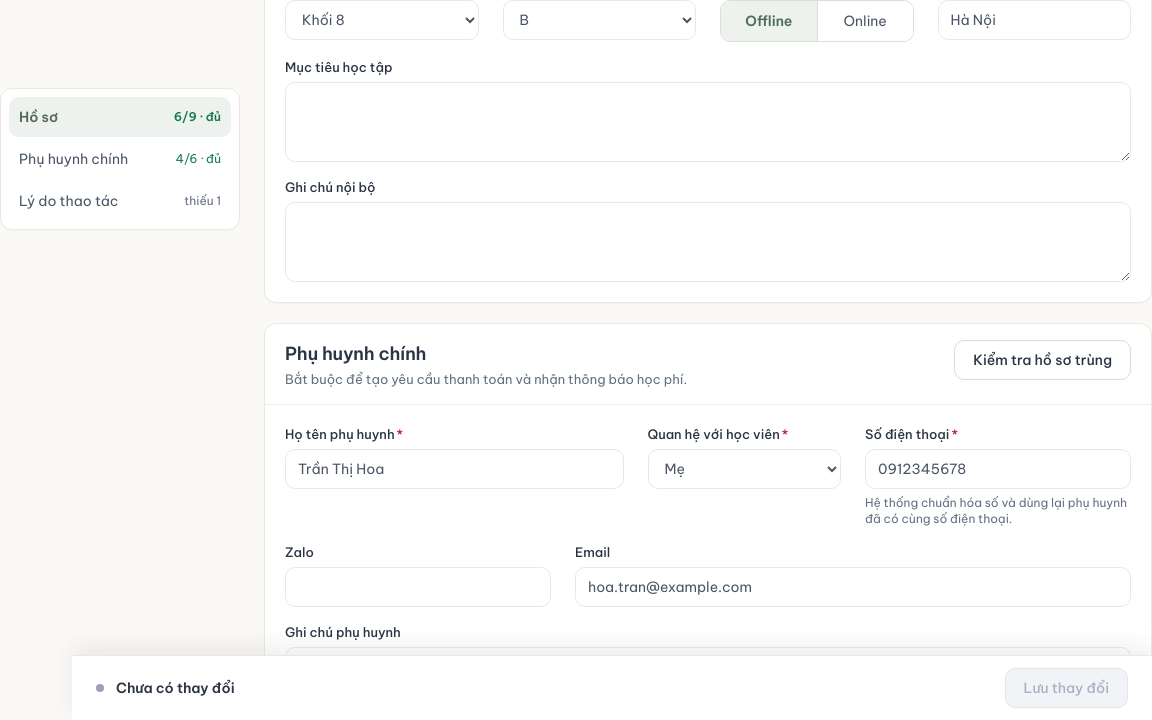
Scenario: StudentProfileForm (design 17a) › on edit, says the student's own guardian is updated and never lists the student itself
The width and height of the screenshot is (1152, 720).
(page scrolled)
Click the button "Kiểm tra hồ sơ trùng" at (1043,360), box [954,340,1131,380]
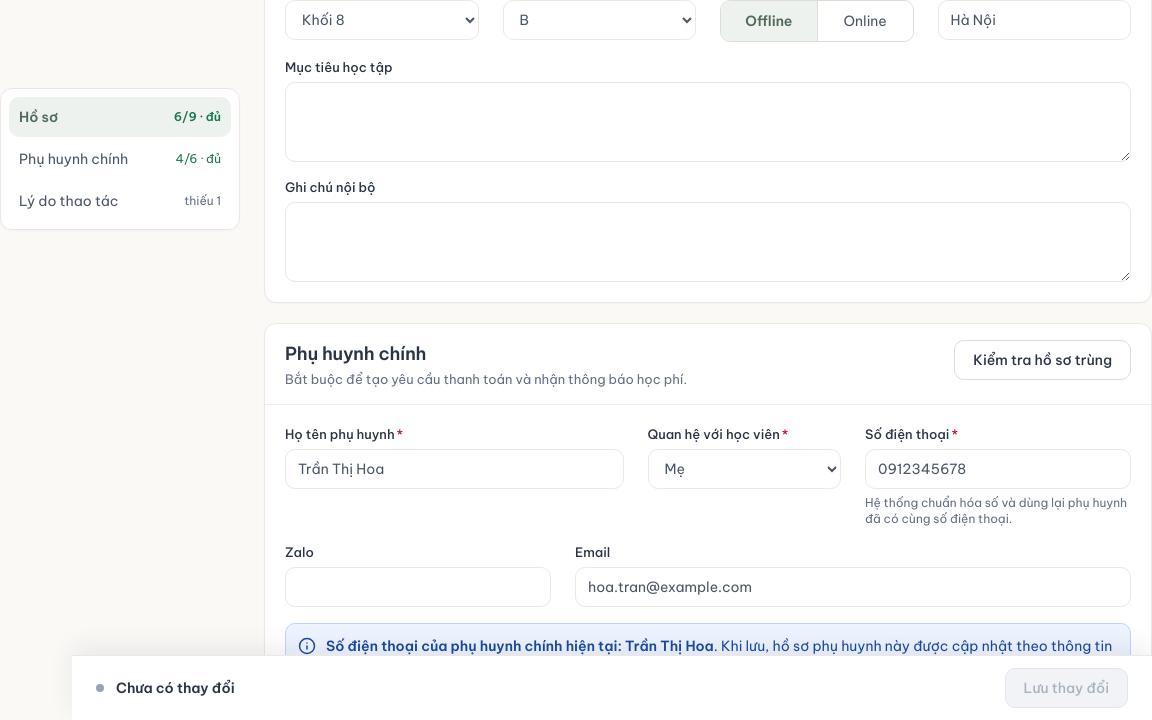
Expected: the text "Số điện thoại của phụ huynh chính hiện tại: Trần Thị Hoa" does not show "Phạm Minh Khang", [285,623,1131,689]
Expected: the text "Số điện thoại của phụ huynh chính hiện tại: Trần Thị Hoa" is shown, [326,637,714,655]
Replace the text in the field labelled "Số điện thoại" with "0905123456" at (998,469), box [865,449,1131,489]
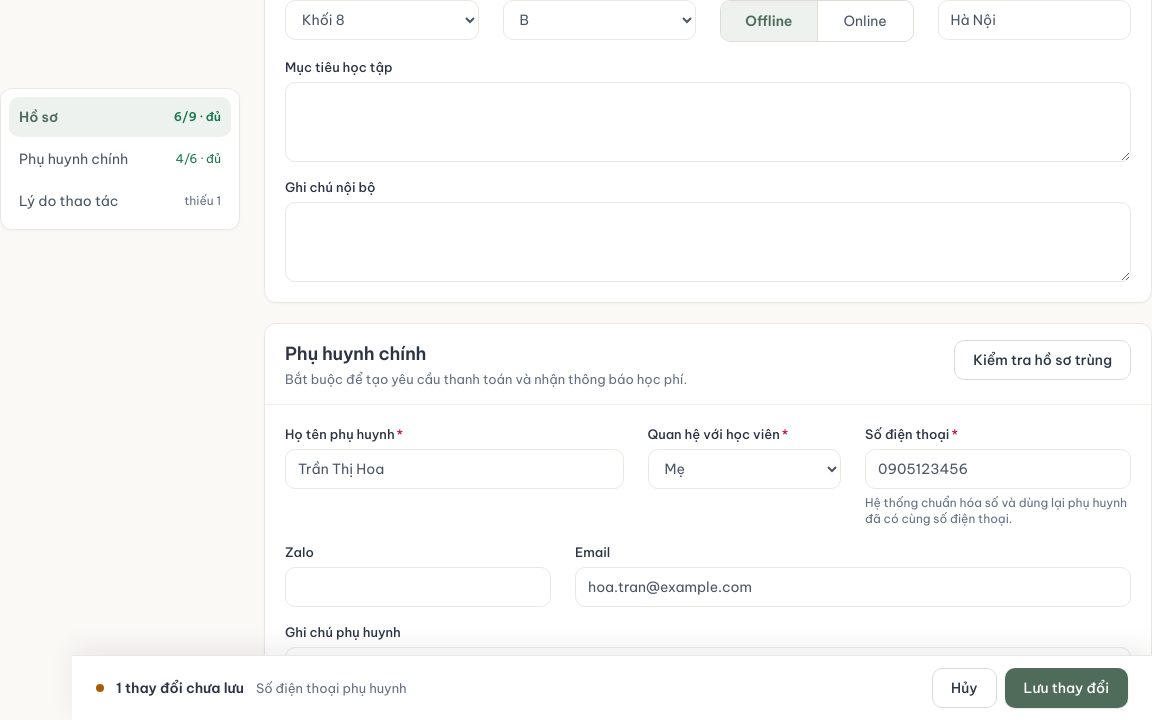
Click the button "Kiểm tra hồ sơ trùng" at (1043,360), box [954,340,1131,380]
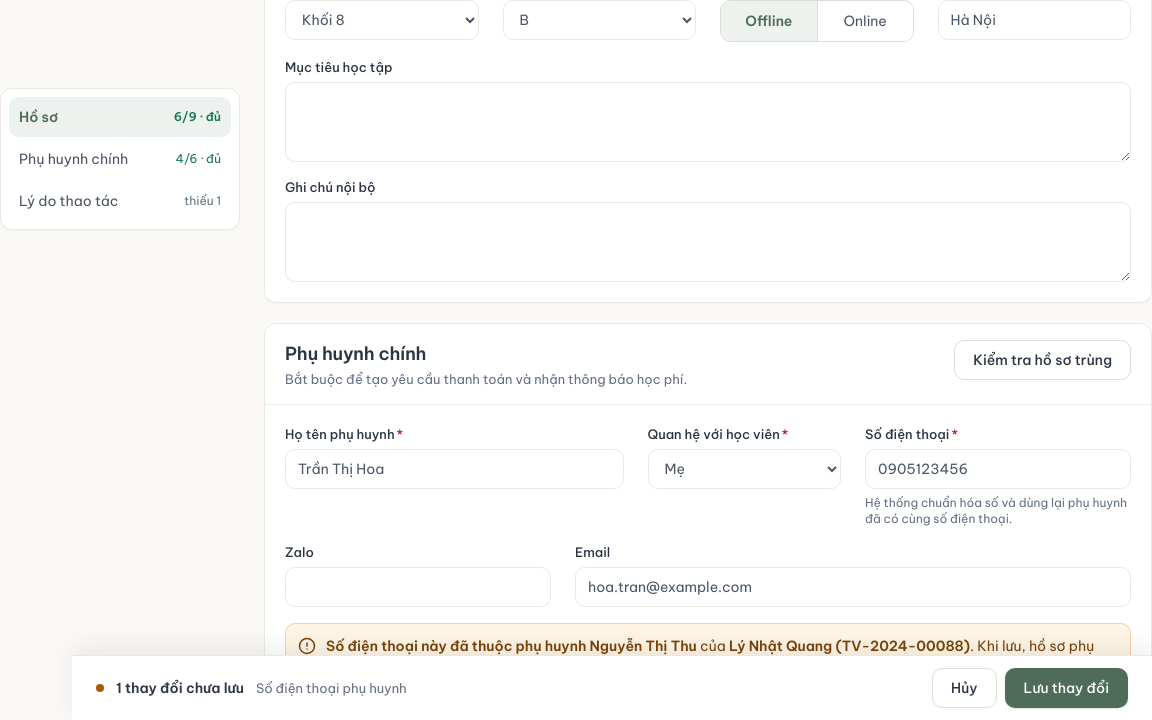
Expected: the text "Số điện thoại này đã thuộc phụ huynh Nguyễn Thị Thu" is shown, [326,637,697,655]
